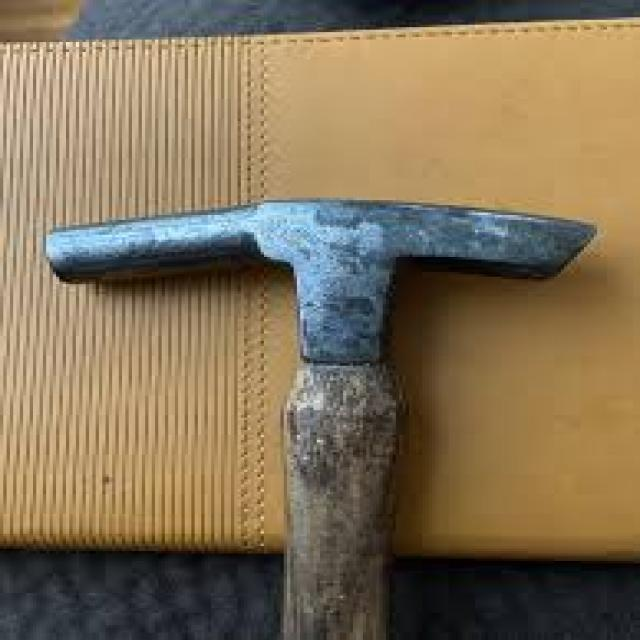hammer: (30, 195, 608, 640)
